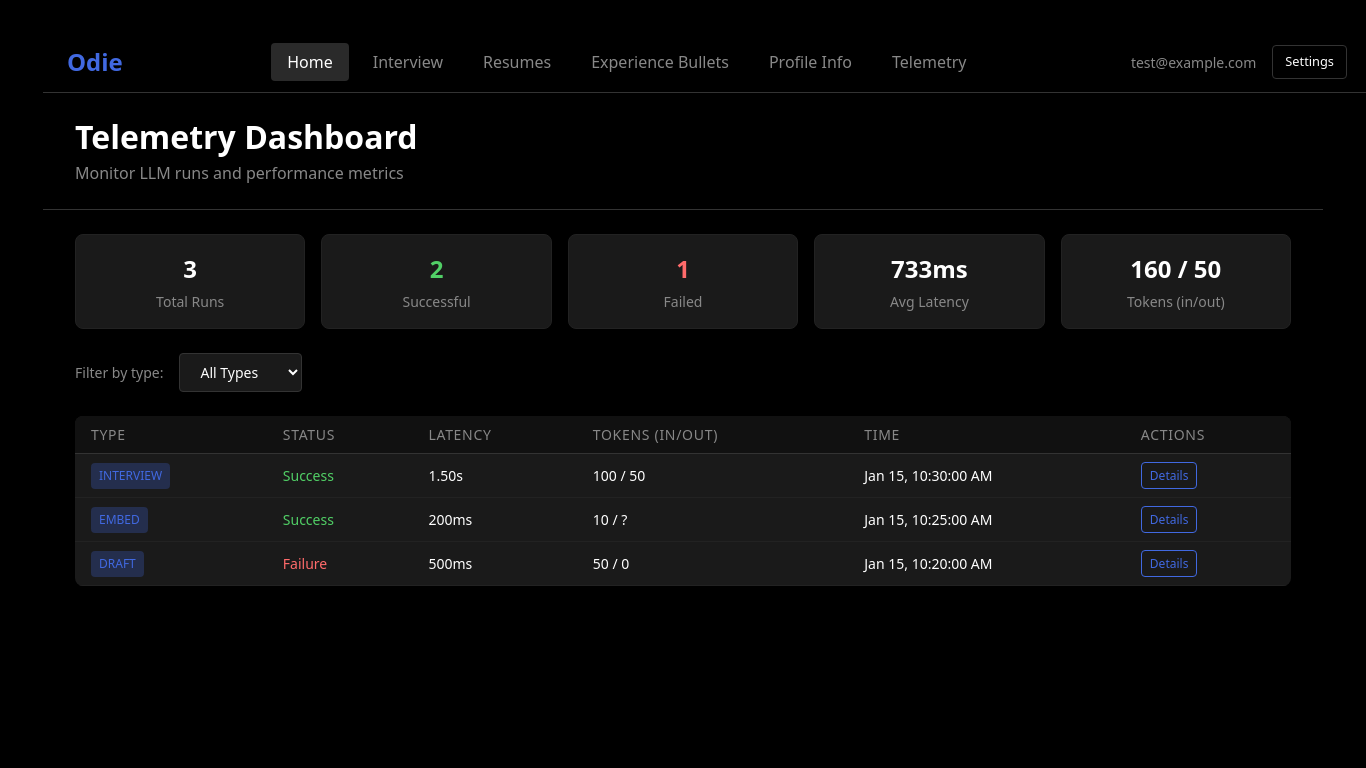
TelemetryPage › should show empty state when filter has no matches
Select "Export" in the dropdown with test id "telemetry-filter" at (241,372), box [179,353,302,392]
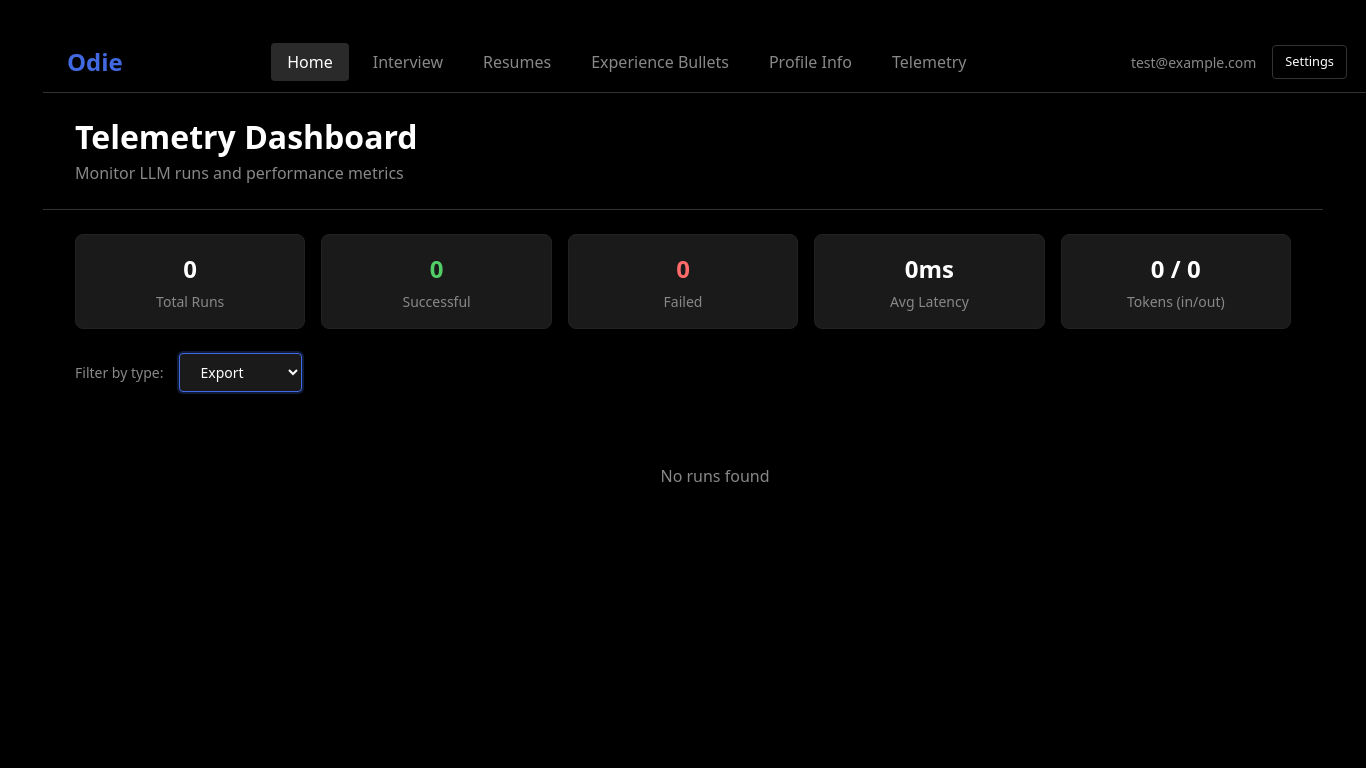
Now the element with test id "runs-list-empty" is shown, box [660,465,770,487]
